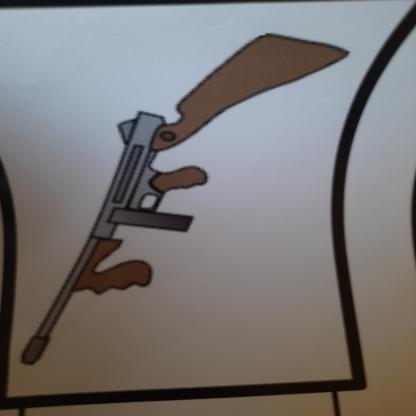Bootlegger: (16, 28, 350, 376)
